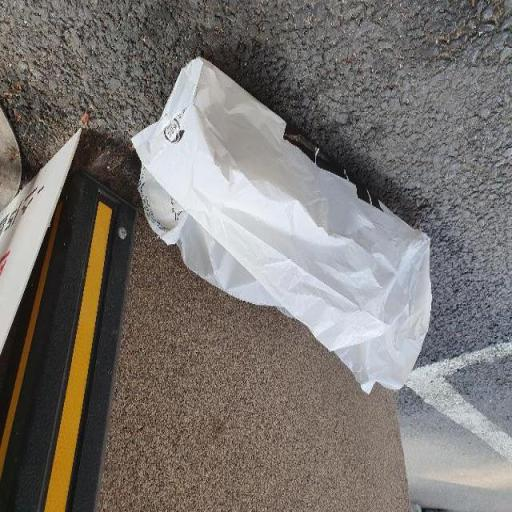plastic-bag: (130, 57, 437, 399)
